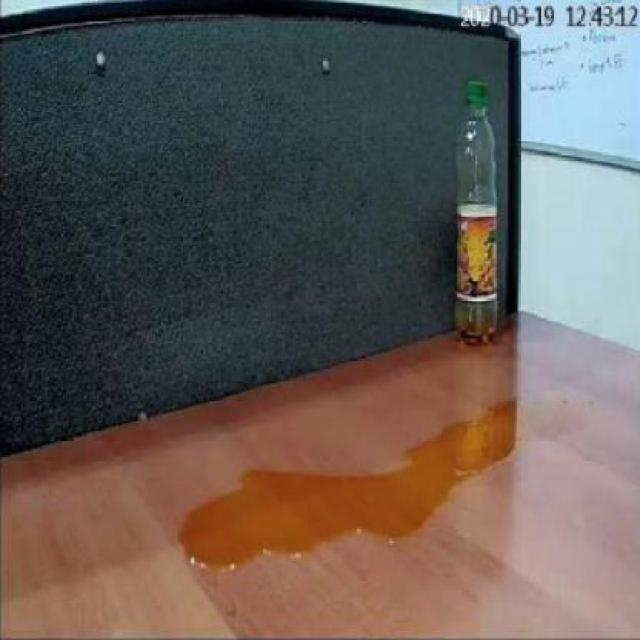spillage: (175, 397, 521, 587)
